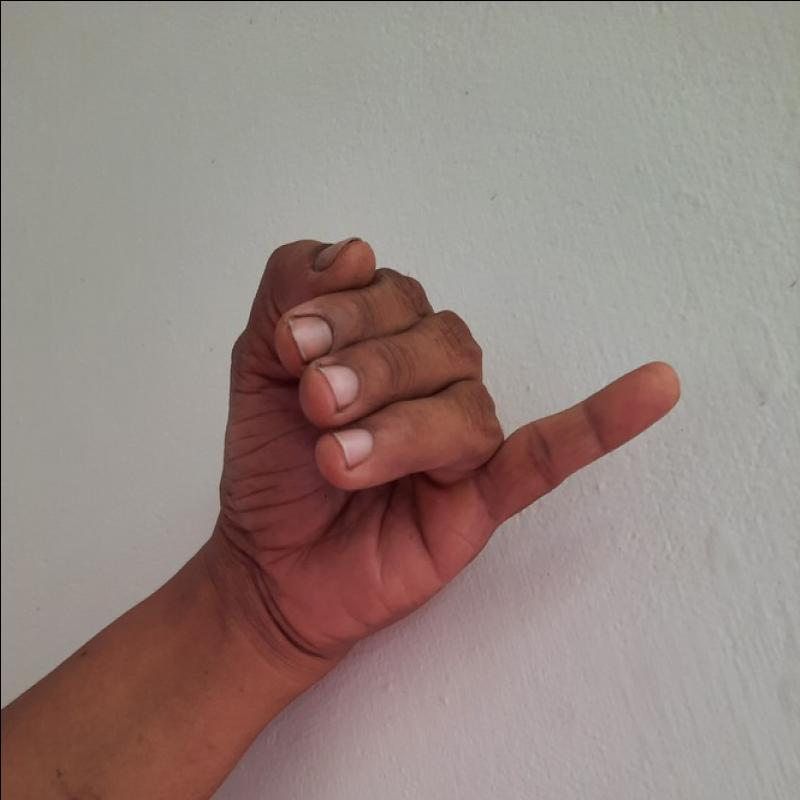Kartharee Mukham: (202, 216, 688, 652)
